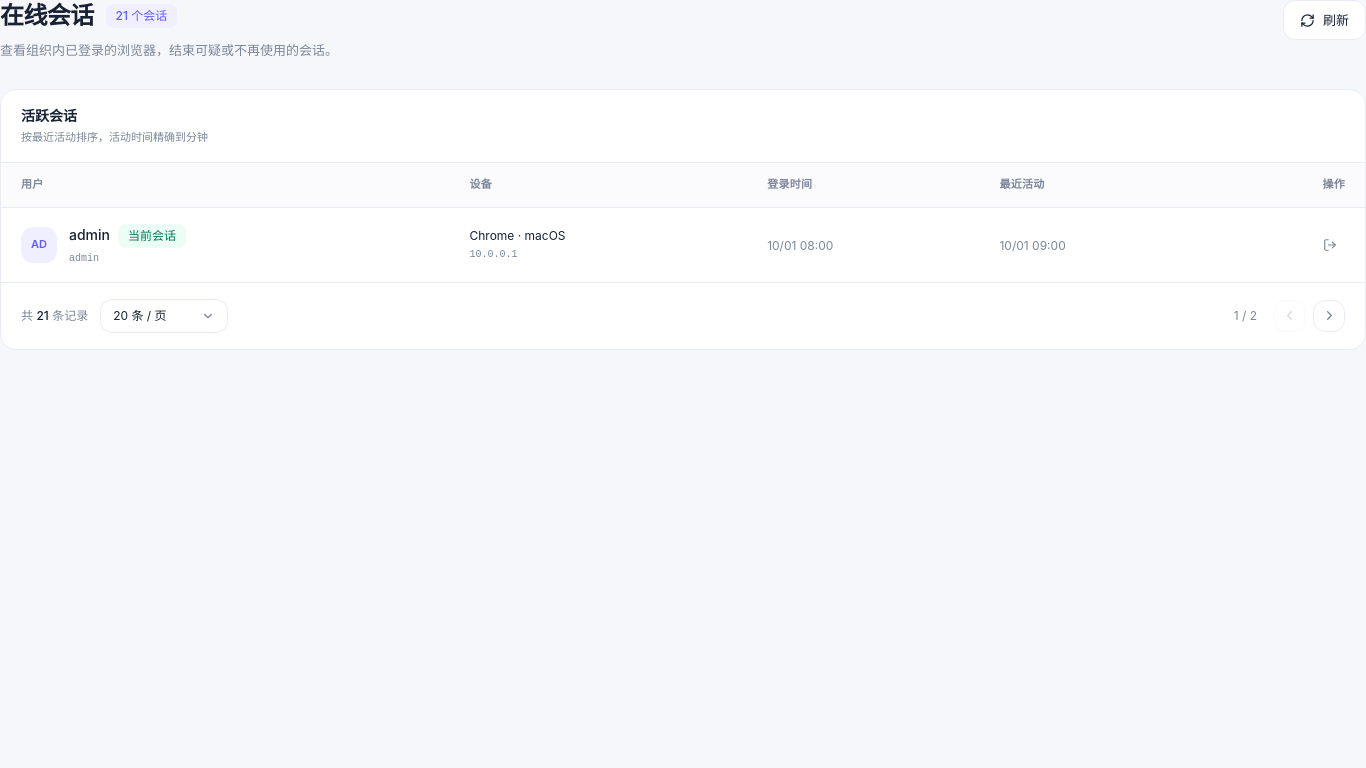
Scenario: sessions view › steps back when ending sessions empties the last page
Click the button named "下一页".
click(1329, 316)  # box [1313,300,1345,332]
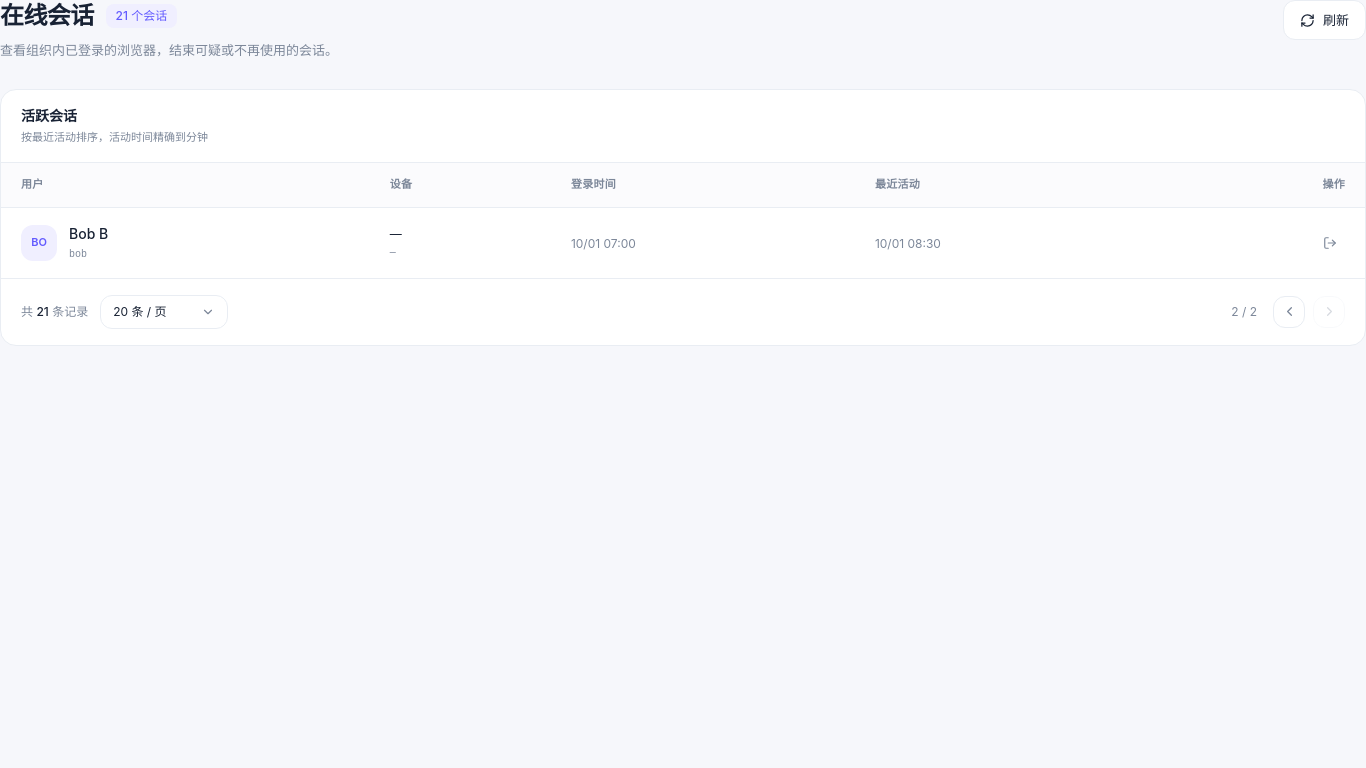
Expected: the text "Bob B" is shown, [69,224,108,244]
Click the button named "结束 Bob B 的会话".
click(1330, 243)  # box [1315,230,1345,256]
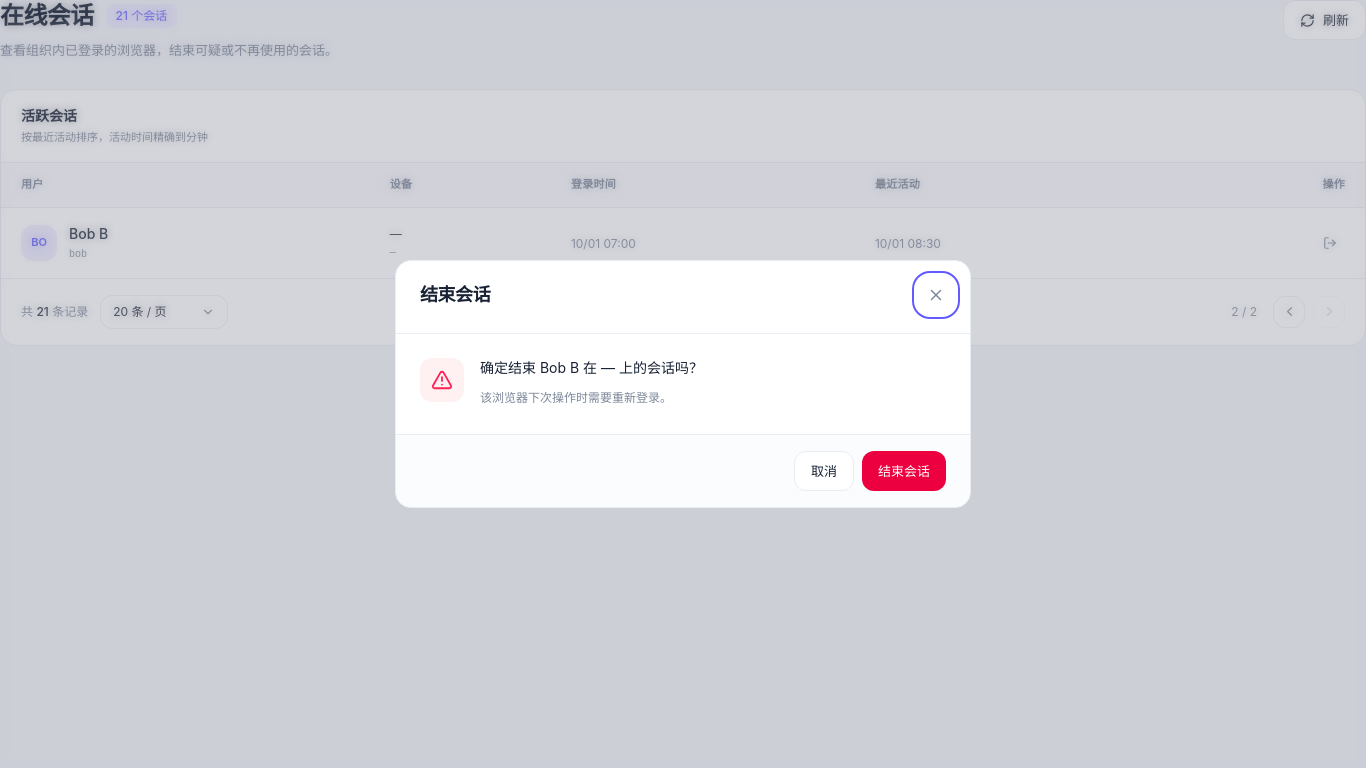
Click the button "结束会话".
click(904, 471)  # box [862,451,946,491]
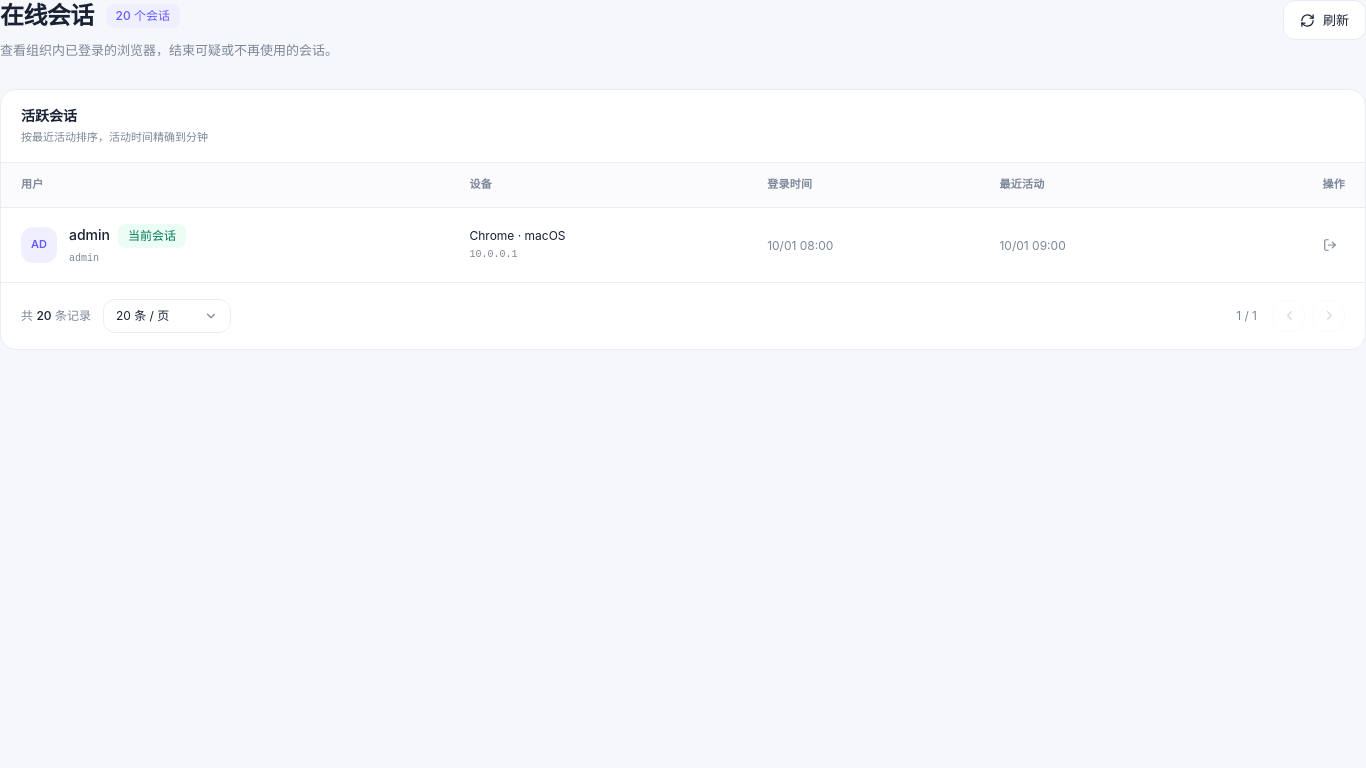
Expected: the text "admin" is shown, [69,226,110,242]
